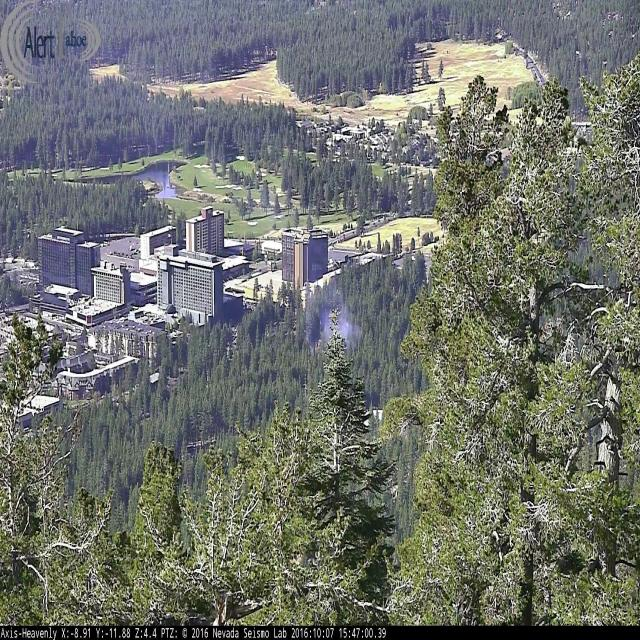smoke: (302, 266, 369, 367)
